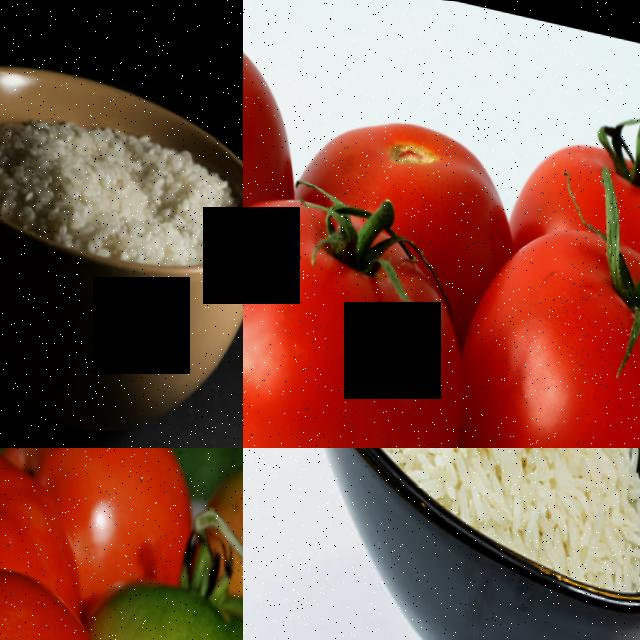tomato: (243, 157, 493, 448), (422, 189, 640, 448), (0, 520, 148, 640)
white rice: (0, 103, 235, 265), (438, 448, 640, 589)
